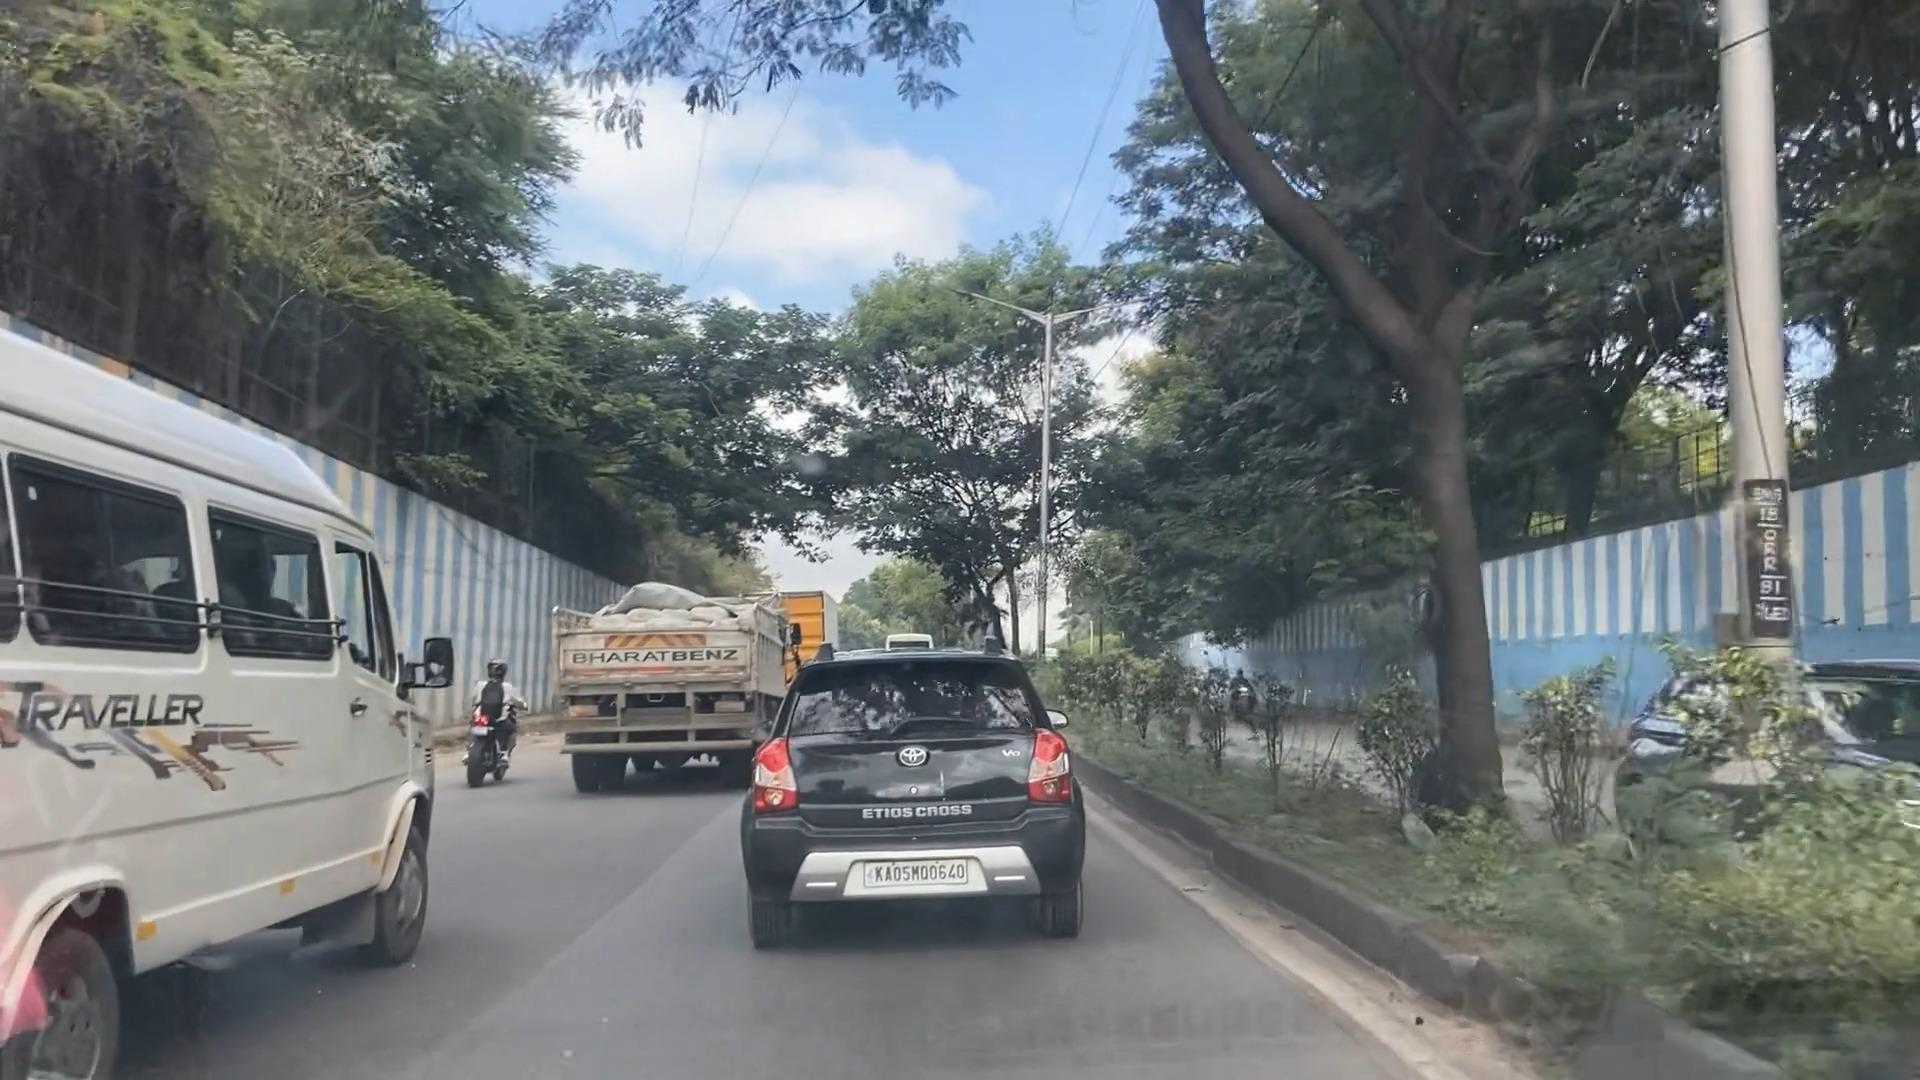HMV: (0, 310, 555, 1068), (558, 521, 812, 799)
LMV: (707, 608, 1130, 992), (440, 596, 534, 803)
